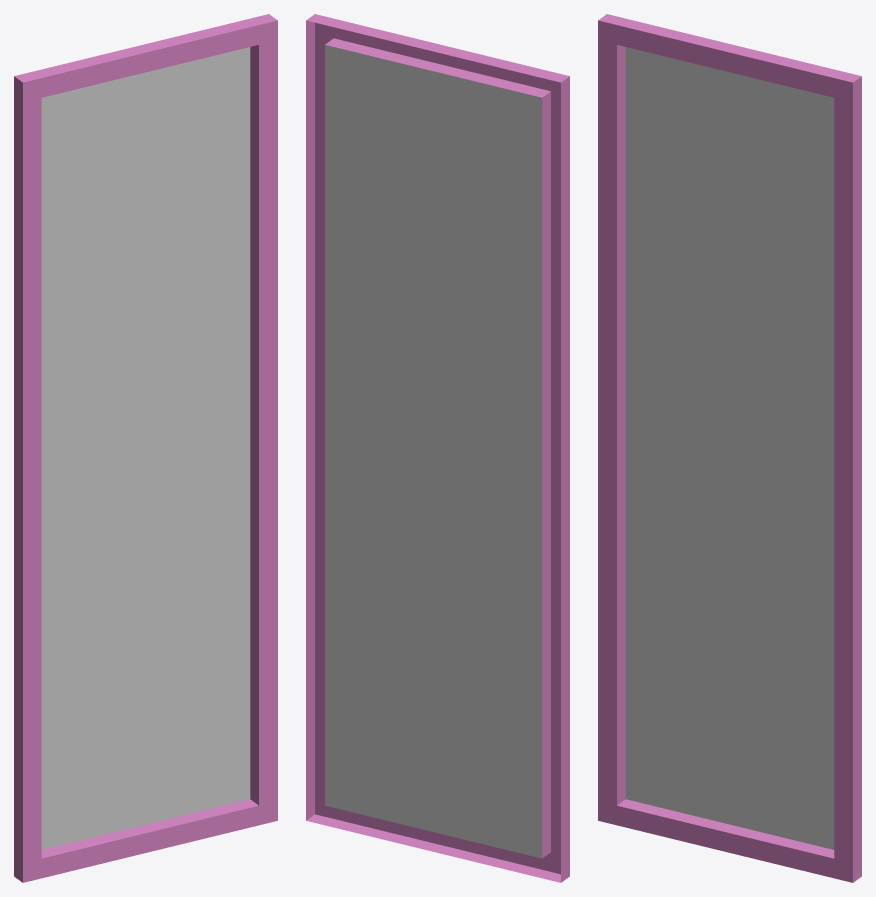
File: Espejo.fbx
The picture shows the model from 3 angles, left to right: view 1: azimuth 30°, elevation 25°; view 2: azimuth 150°, elevation 25°; view 3: azimuth 330°, elevation 25°; orthographic projection.
Visible parts, largest first — view 1: Espejo; view 2: Espejo; view 3: Espejo.
Boxes of the visible parts, x1,y1,x2,y2 form: Espejo: [14, 14, 277, 882]; Espejo: [306, 14, 569, 882]; Espejo: [598, 14, 861, 882].
Bounding box in the file's own units: 0.5 × 1.5 × 0.03.
